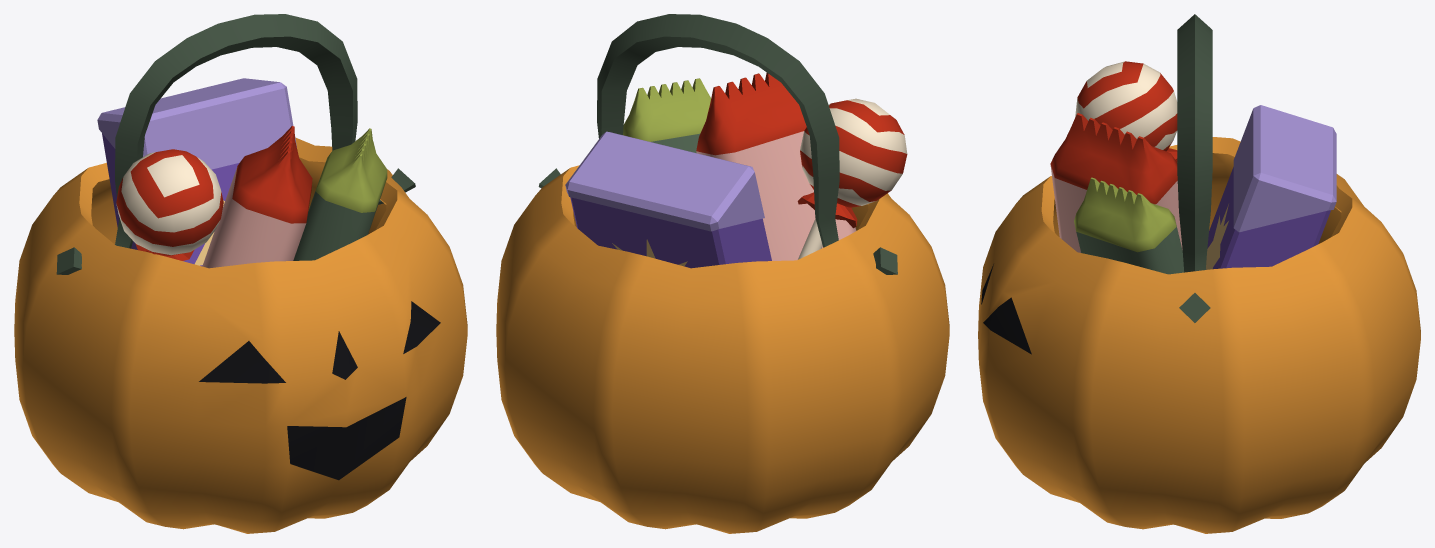
Rendered from Assembled_Pumpkin_Basket.fbx.
3 renders of one model, left to right at view 1: azimuth 30°, elevation 25°; view 2: azimuth 150°, elevation 25°; view 3: azimuth 270°, elevation 25°, orthographic. The views are drawn at different scales.
Parts seen in each view (by area): view 1: Assembled_Pumpkin_Basket, Candy_Group, Handle; view 2: Assembled_Pumpkin_Basket, Candy_Group, Handle; view 3: Assembled_Pumpkin_Basket, Candy_Group, Handle.
Boxes of the visible parts, bbox=[...] form: Assembled_Pumpkin_Basket: bbox=[14, 137, 467, 533]; Candy_Group: bbox=[97, 78, 387, 268]; Handle: bbox=[56, 14, 415, 274]; Assembled_Pumpkin_Basket: bbox=[496, 165, 949, 533]; Candy_Group: bbox=[565, 72, 907, 268]; Handle: bbox=[538, 14, 897, 274]; Assembled_Pumpkin_Basket: bbox=[978, 137, 1420, 533]; Candy_Group: bbox=[1050, 61, 1336, 274]; Handle: bbox=[1177, 14, 1212, 322].
Size of the model in its own units: 21.39 by 23.93 by 21.11.
